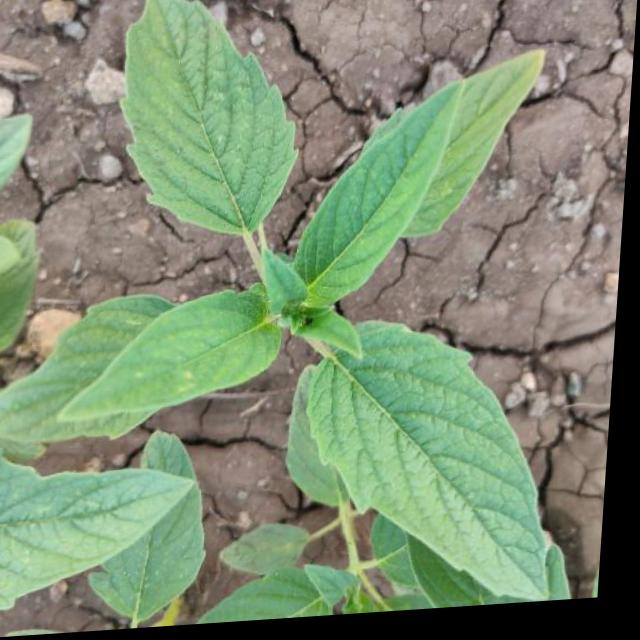crop: (4, 0, 605, 638)
